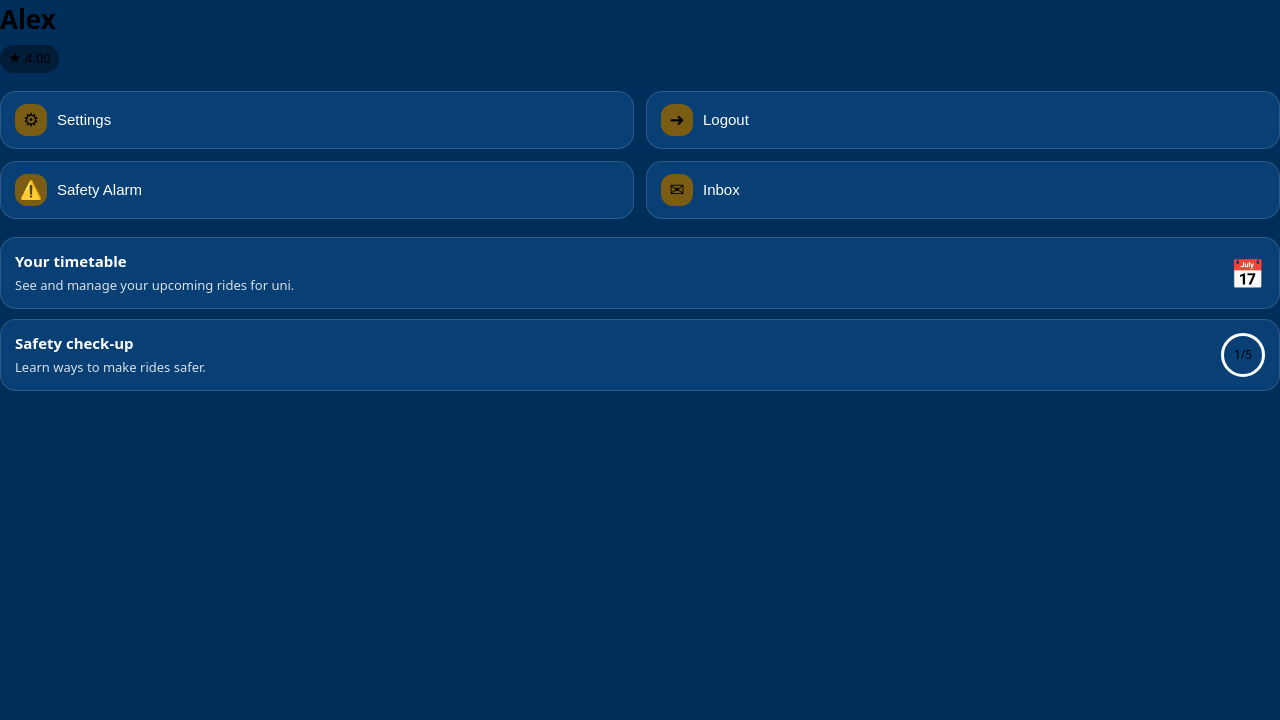
Scenario: AccountPage Component › closes safety toolkit when backdrop is clicked
Click the text "Safety Alarm" at (100, 190), box [57, 181, 142, 198]
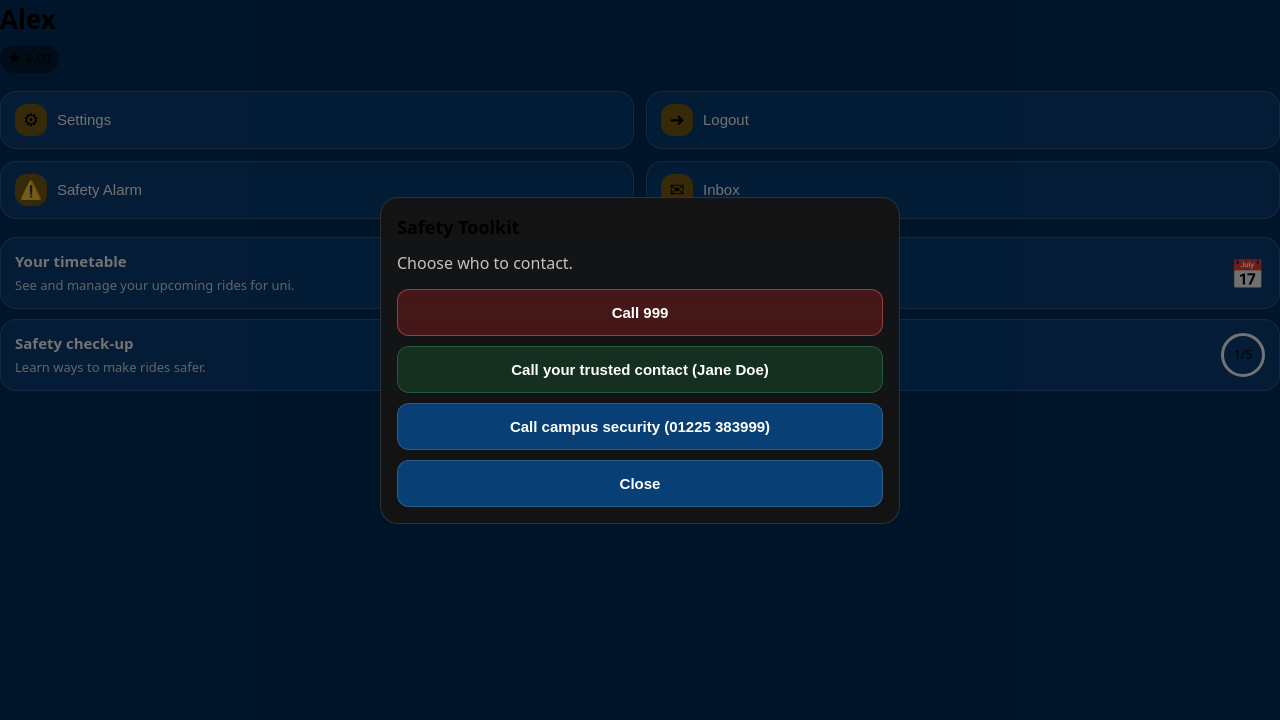
Click the element with class "modal-backdrop" at (77, 360), box [0, 0, 1279, 719]
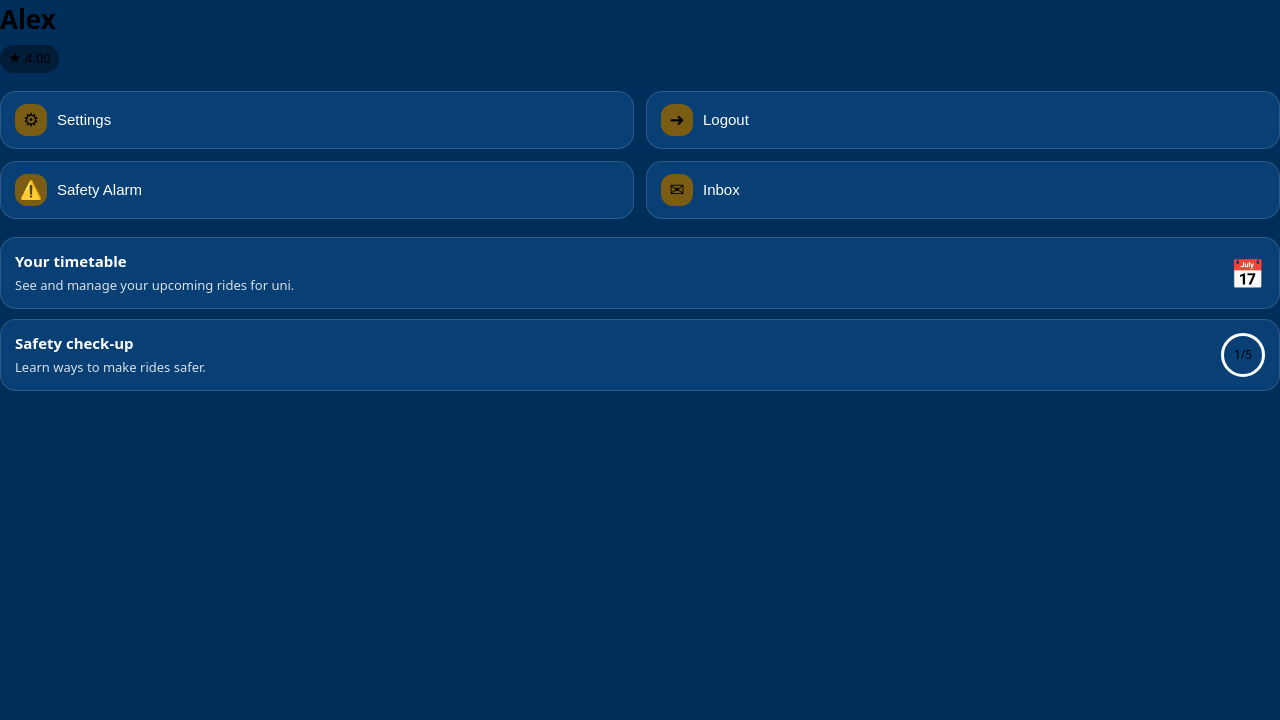
expect the text "Safety Toolkit" is gone: met
